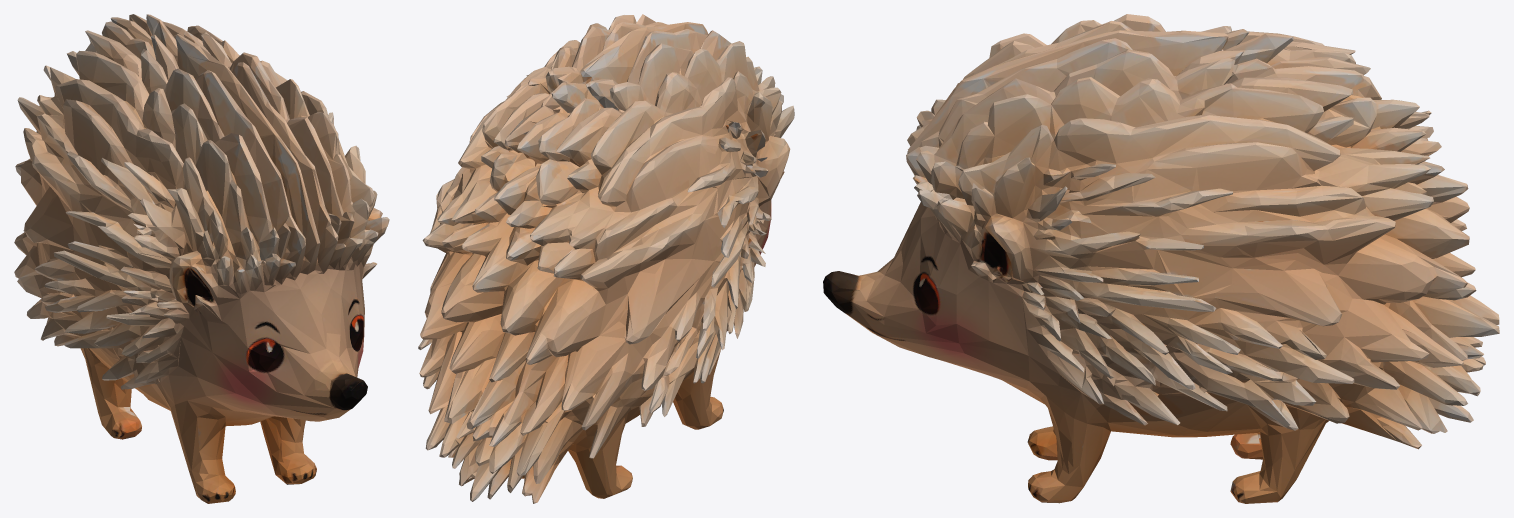
File: w_hedgehog.glb
3 renders of one model, left to right at view 1: azimuth 30°, elevation 25°; view 2: azimuth 150°, elevation 25°; view 3: azimuth 270°, elevation 25°, orthographic. The views are drawn at different scales.
Parts seen in each view (by area): view 1: textured_mesh.obj; view 2: textured_mesh.obj; view 3: textured_mesh.obj.
Part boxes in pixels (x1,y1,x2,y2): textured_mesh.obj: (14, 14, 389, 503); textured_mesh.obj: (418, 14, 794, 503); textured_mesh.obj: (823, 14, 1499, 503).
Size of the model in its own units: 0.9604 by 1.45 by 1.99.
1 material, 1 textured.
